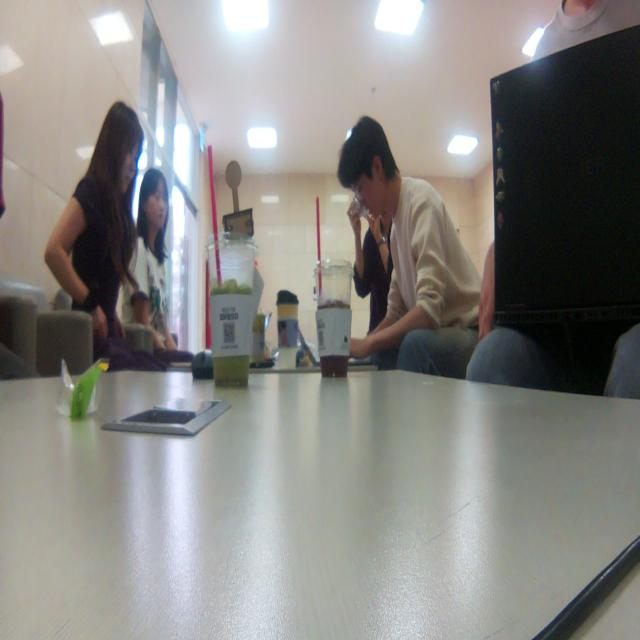target: (221, 156, 257, 238)
